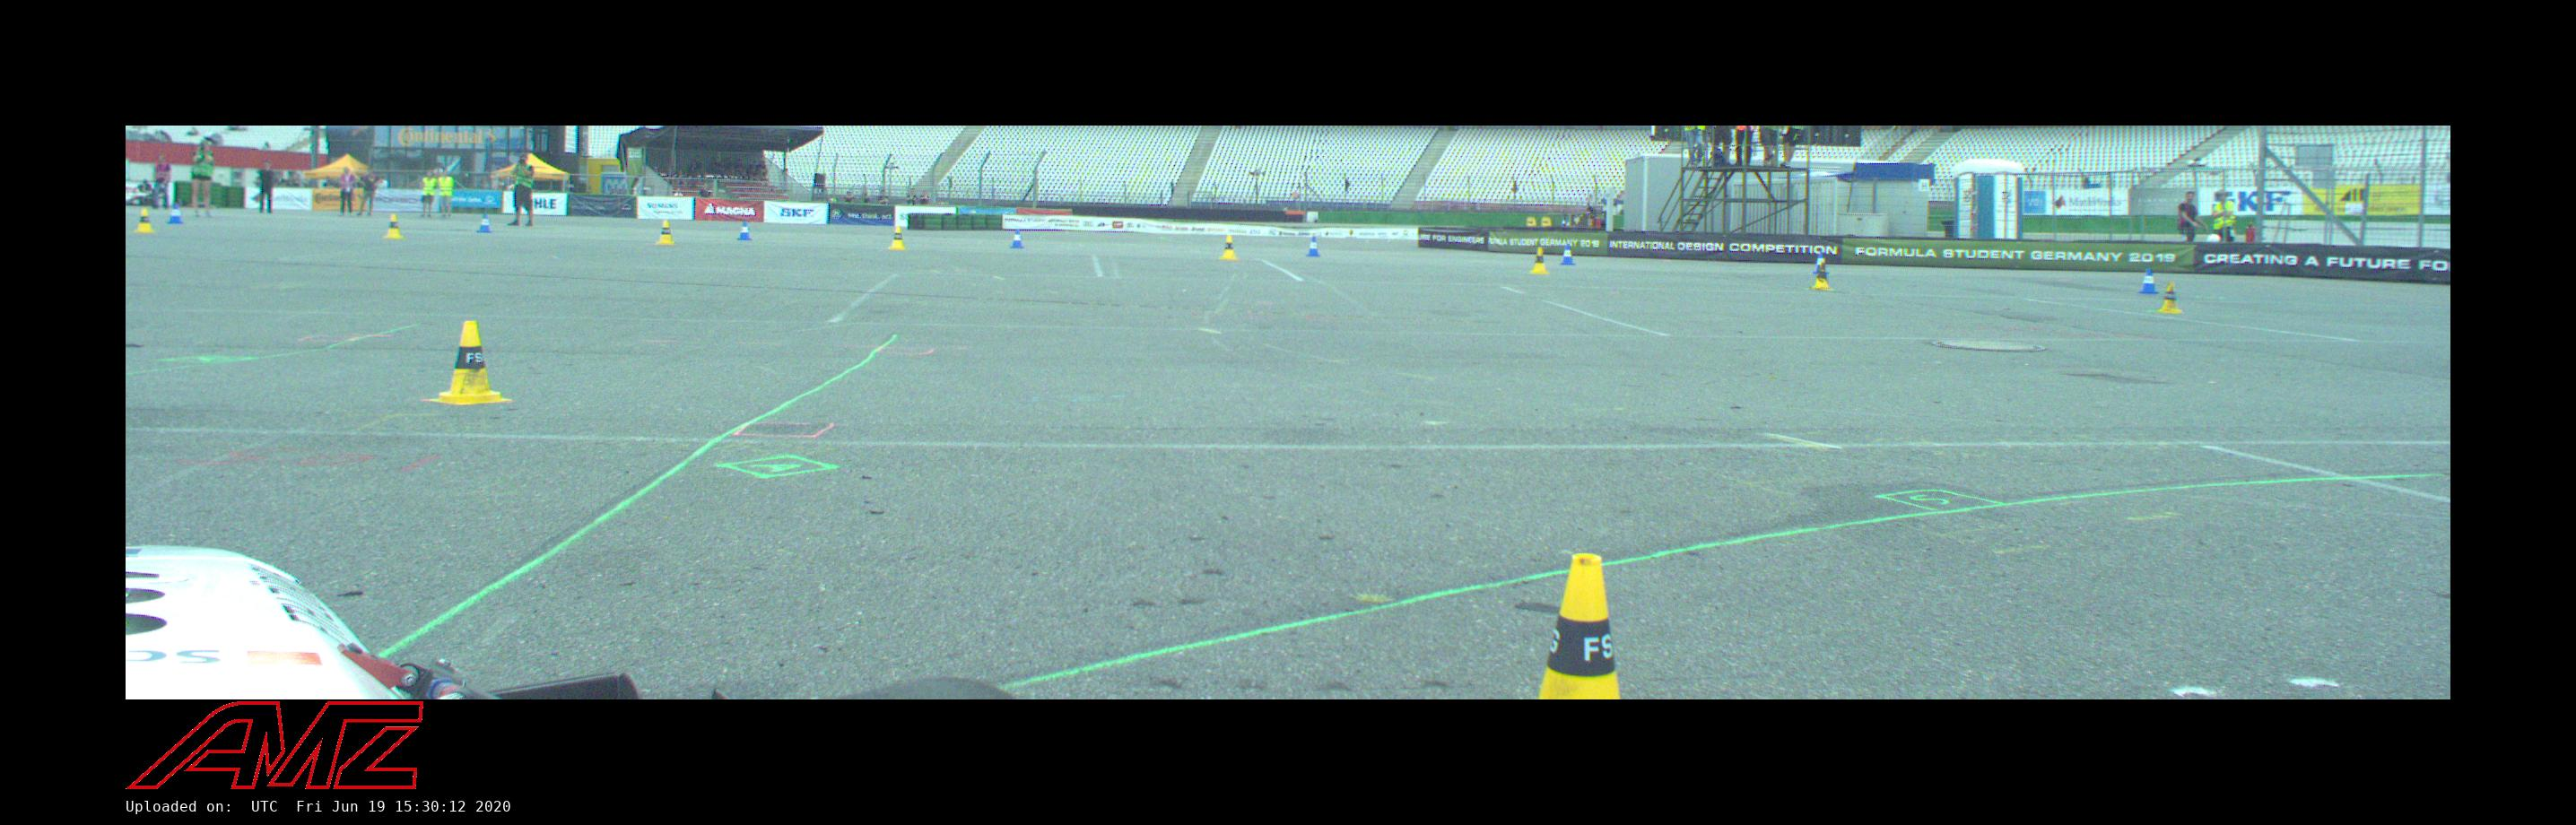blue_cone: (2140, 268, 2156, 293), (477, 213, 492, 232), (1561, 244, 1573, 265), (1306, 237, 1319, 256), (737, 222, 752, 239), (169, 204, 181, 223), (1814, 252, 1824, 274), (1010, 230, 1023, 247)
yellow_cone: (1540, 554, 1620, 697), (431, 322, 512, 402), (2158, 283, 2181, 313), (1529, 247, 1547, 272), (385, 213, 401, 239), (1814, 263, 1830, 287), (889, 227, 905, 248), (657, 221, 674, 243), (1220, 237, 1236, 258), (135, 209, 152, 230)
